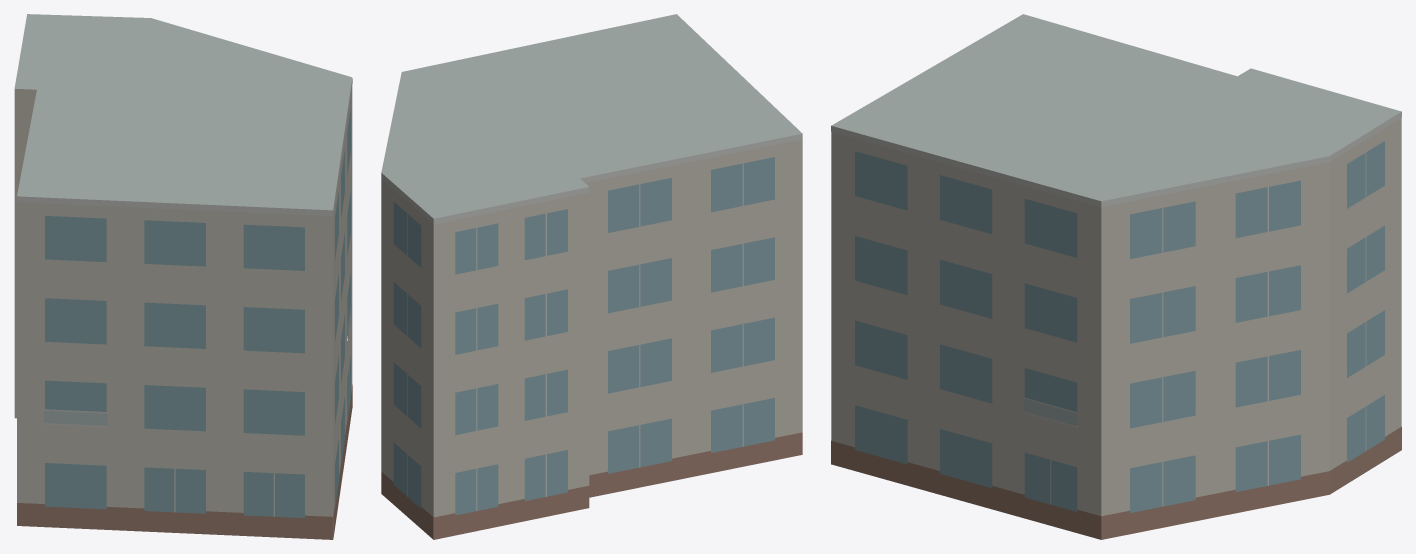
Rendered from survey-upis-32985906.glb.
The picture shows the model from 3 angles, left to right: view 1: azimuth 30°, elevation 25°; view 2: azimuth 150°, elevation 25°; view 3: azimuth 270°, elevation 25°; orthographic projection. The views are drawn at different scales.
Visible parts, largest first — view 1: survey-upis-32985906.tmp; view 2: survey-upis-32985906.tmp; view 3: survey-upis-32985906.tmp.
Part boxes in pixels (bbox=[...]): survey-upis-32985906.tmp: bbox=[14, 14, 352, 539]; survey-upis-32985906.tmp: bbox=[381, 14, 802, 539]; survey-upis-32985906.tmp: bbox=[831, 14, 1401, 539].
Size of the model in its own units: 16.38 by 13.8 by 21.09.
